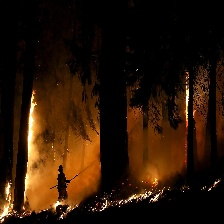fire: (50, 178, 175, 220), (23, 91, 46, 208), (1, 175, 12, 219), (183, 71, 191, 128), (208, 175, 221, 198)
smoke: (127, 96, 183, 174), (54, 85, 98, 184)
